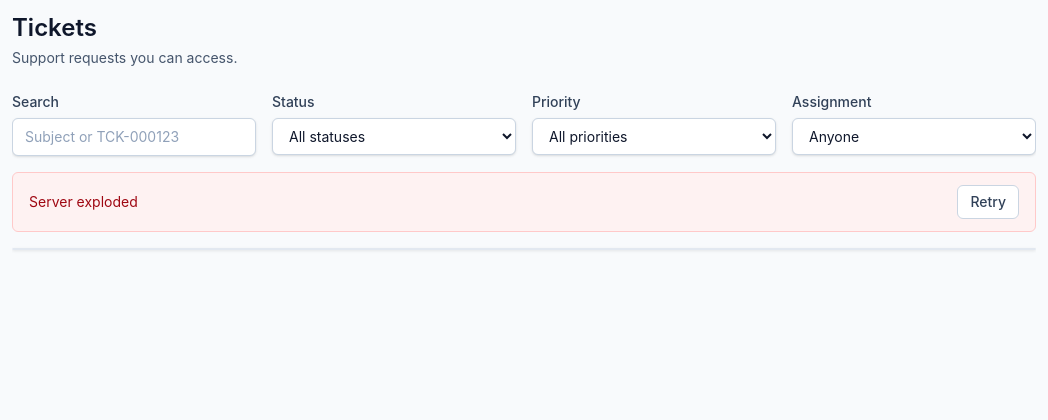
Test: TicketsPage › shows the error with a working Retry
Expected: the text "Server exploded" is shown, x1=29 y1=192 x2=138 y2=212
Click the button "Retry" at (988, 202), box x1=957 y1=185 x2=1019 y2=219
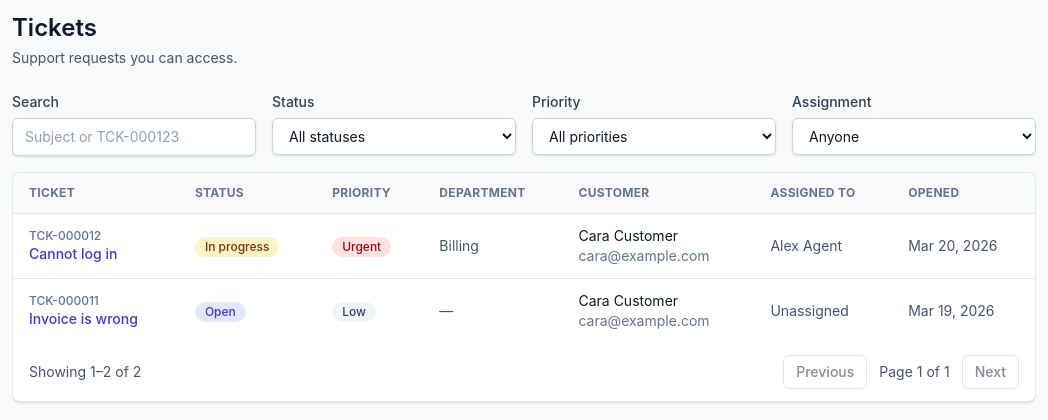
Expected: the link "Cannot log in" is shown, x1=29 y1=245 x2=117 y2=262
